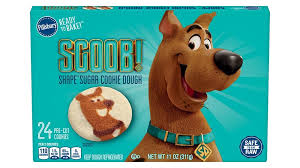scooby: (124, 10, 243, 162)
